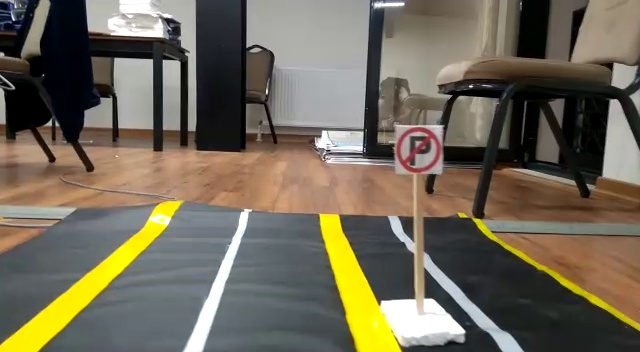park_yapilmaz: (395, 124, 443, 171)
